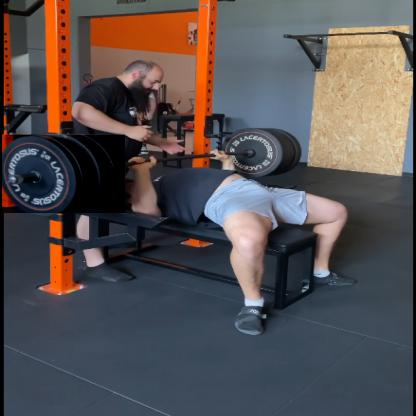barbell: (2, 136, 127, 215)
